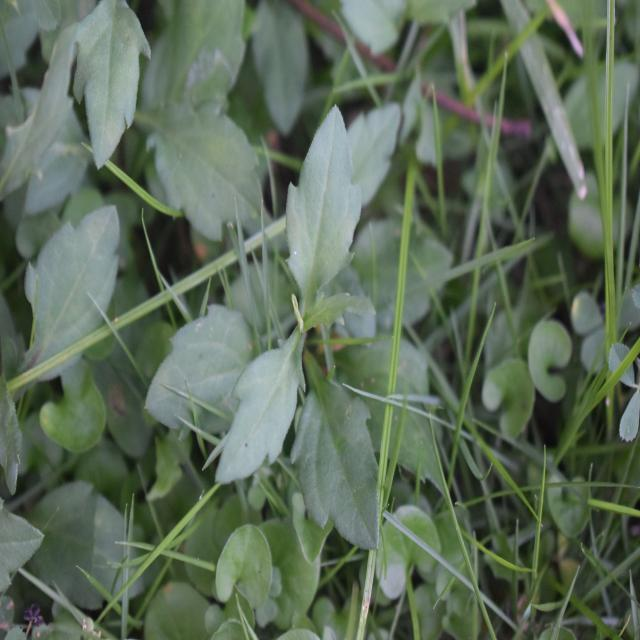Indian aster: (202, 69, 386, 541)
